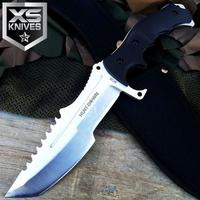knife: (4, 18, 164, 199)
